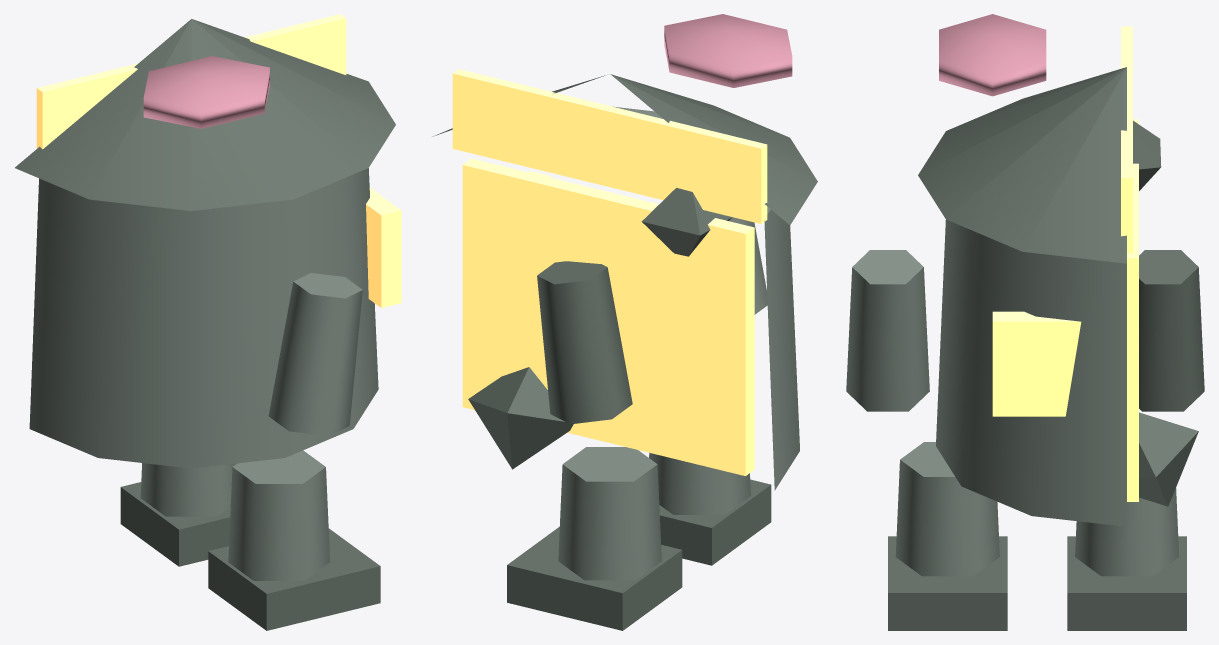
The model's file is enemy_shard.glb.
The picture shows the model from 3 angles, left to right: view 1: azimuth 30°, elevation 25°; view 2: azimuth 150°, elevation 25°; view 3: azimuth 270°, elevation 25°; orthographic projection. The views are drawn at different scales.
Parts seen in each view (by area): view 1: body, head, arm_l_mesh, leg_l_mesh, foot_l, moss, break_face_head, foot_r, leg_r_mesh, window; view 2: break_face, break_face_head, leg_r_mesh, arm_r_mesh, foot_r, moss, body, head, chunk_0, foot_l, leg_l_mesh, chunk_1 (+1 smaller); view 3: body, head, arm_l_mesh, leg_l_mesh, arm_r_mesh, window, foot_l, foot_r, moss, leg_r_mesh, chunk_0, break_face (+2 smaller).
Boxes of the visible parts, <box> form: body: <box>29,168,378,468</box>; head: <box>15,19,395,210</box>; arm_l_mesh: <box>268,273,362,436</box>; leg_l_mesh: <box>228,450,330,580</box>; foot_l: <box>208,528,380,630</box>; moss: <box>143,56,269,128</box>; break_face_head: <box>36,14,346,149</box>; foot_r: <box>120,482,230,566</box>; leg_r_mesh: <box>140,463,236,516</box>; window: <box>366,187,401,307</box>; break_face: <box>462,158,754,475</box>; break_face_head: <box>452,69,767,223</box>; leg_r_mesh: <box>558,447,661,580</box>; arm_r_mesh: <box>537,261,632,424</box>; foot_r: <box>507,527,682,630</box>; moss: <box>664,14,792,87</box>; body: <box>613,106,799,490</box>; head: <box>432,74,817,225</box>; chunk_0: <box>468,367,573,469</box>; foot_l: <box>659,479,771,565</box>; leg_l_mesh: <box>649,453,750,514</box>; chunk_1: <box>641,188,732,256</box>; body: <box>936,219,1126,526</box>; head: <box>918,67,1126,263</box>; arm_l_mesh: <box>846,250,929,411</box>; leg_l_mesh: <box>895,442,999,576</box>; arm_r_mesh: <box>1139,250,1204,411</box>; window: <box>992,311,1081,416</box>; foot_l: <box>888,536,1007,630</box>; foot_r: <box>1067,536,1186,630</box>; moss: <box>939,14,1046,96</box>; leg_r_mesh: <box>1075,488,1179,576</box>; chunk_0: <box>1139,412,1198,506</box>; break_face: <box>1127,119,1138,501</box>.
Size of the model in its own units: 0.14 by 0.1972 by 0.12.
